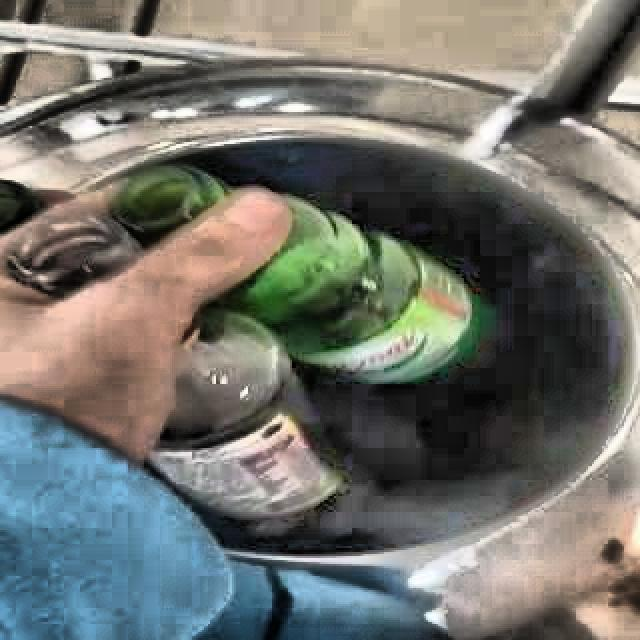glass: (149, 197, 475, 518), (11, 164, 229, 296), (0, 181, 43, 231)
